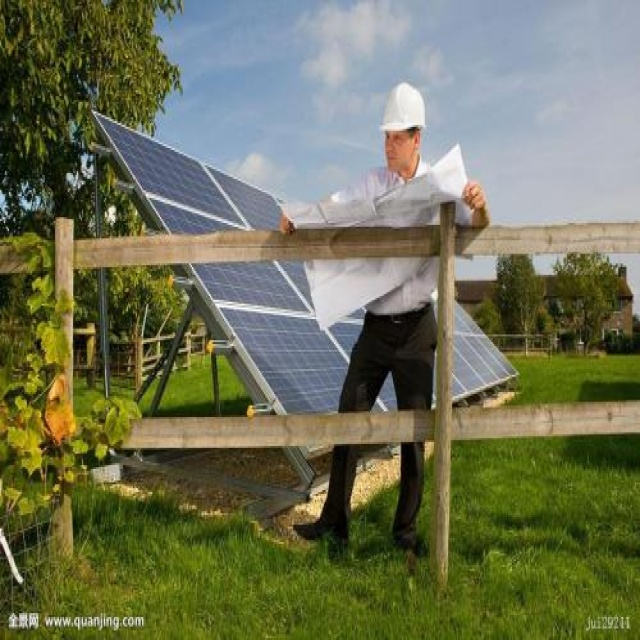Helmet: (373, 70, 436, 183)
